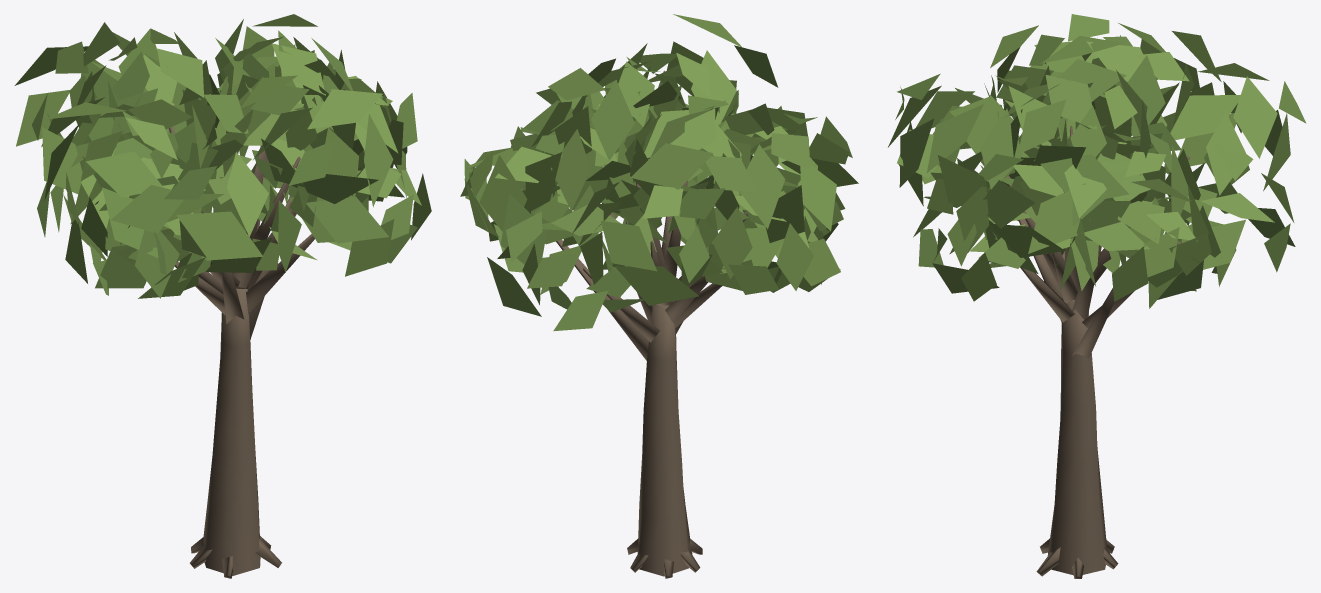
File: oak-broad-lod2.glb
The picture shows the model from 3 angles, left to right: view 1: azimuth 30°, elevation 25°; view 2: azimuth 150°, elevation 25°; view 3: azimuth 270°, elevation 25°; orthographic projection. The views are drawn at different scales.
Parts seen in each view (by area): view 1: tree_oak-broad_LOD2; view 2: tree_oak-broad_LOD2; view 3: tree_oak-broad_LOD2.
Part boxes in pixels (x1,y1,x2,y2): tree_oak-broad_LOD2: [14, 14, 431, 578]; tree_oak-broad_LOD2: [460, 14, 858, 578]; tree_oak-broad_LOD2: [888, 14, 1306, 578].
Bounding box in the file's own units: 8.98 × 12.21 × 9.11.
